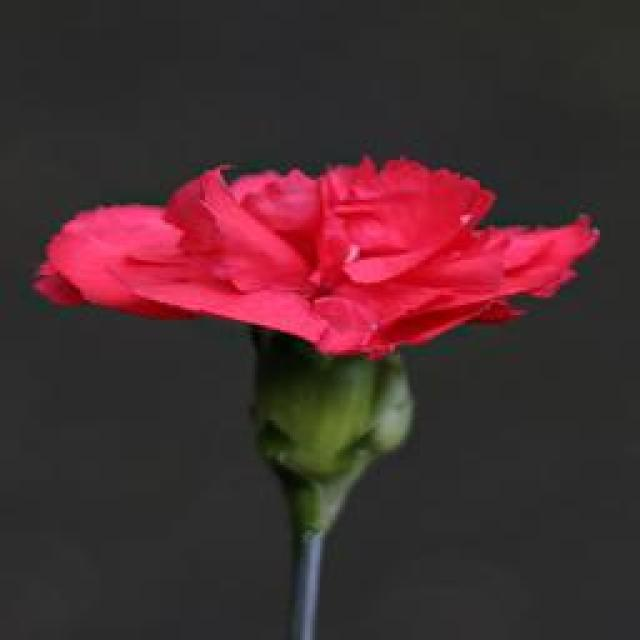carnation: (25, 104, 592, 524)
